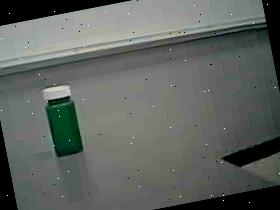Bottle C: (33, 76, 97, 167)
